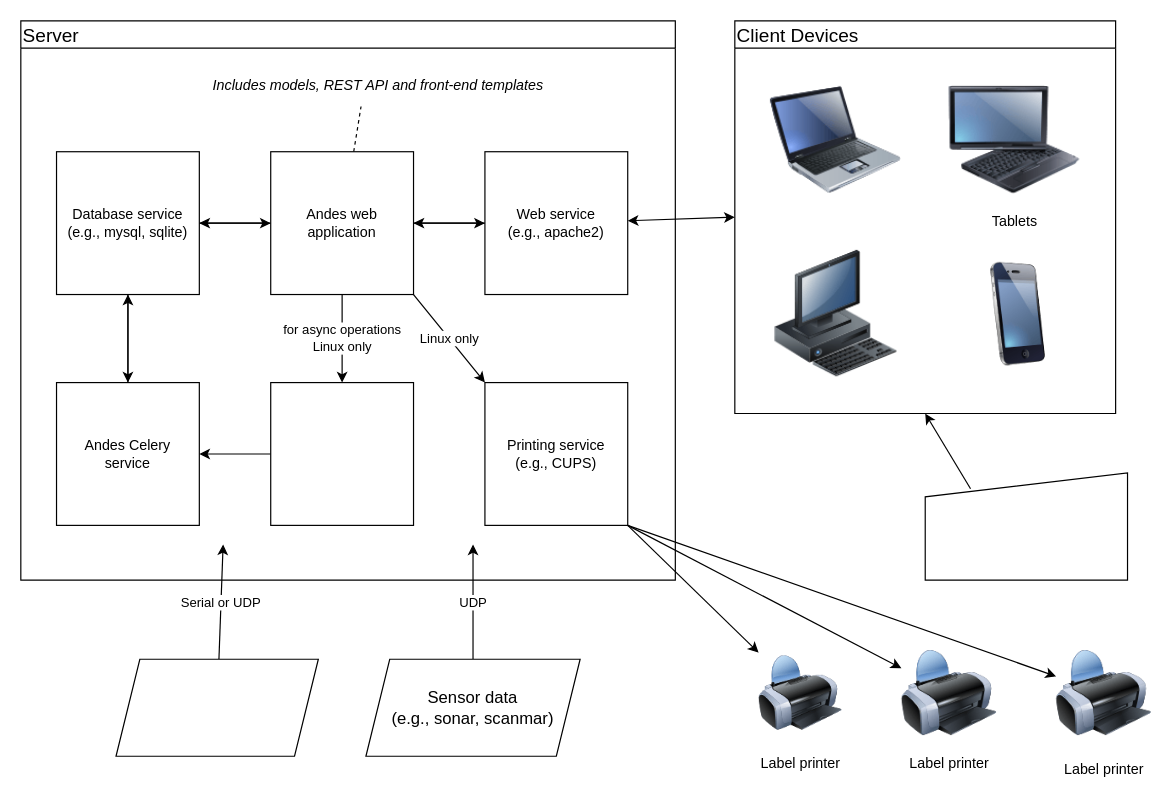
Some shapes in this 1172 by 798 pixel diagram are drawn without their labels. Here are the shapes that lost their labels. From the top down, the centre of each, then its label:
At point 835,139: "Laptops".
At point 835,313: "Workstations".
At point 1017,313: "Smartphones".
At point 342,453: "Messaging service (e.g., redis)".
At point 1026,526: "Manual data input".
At point 216,707: "Navigational data".
